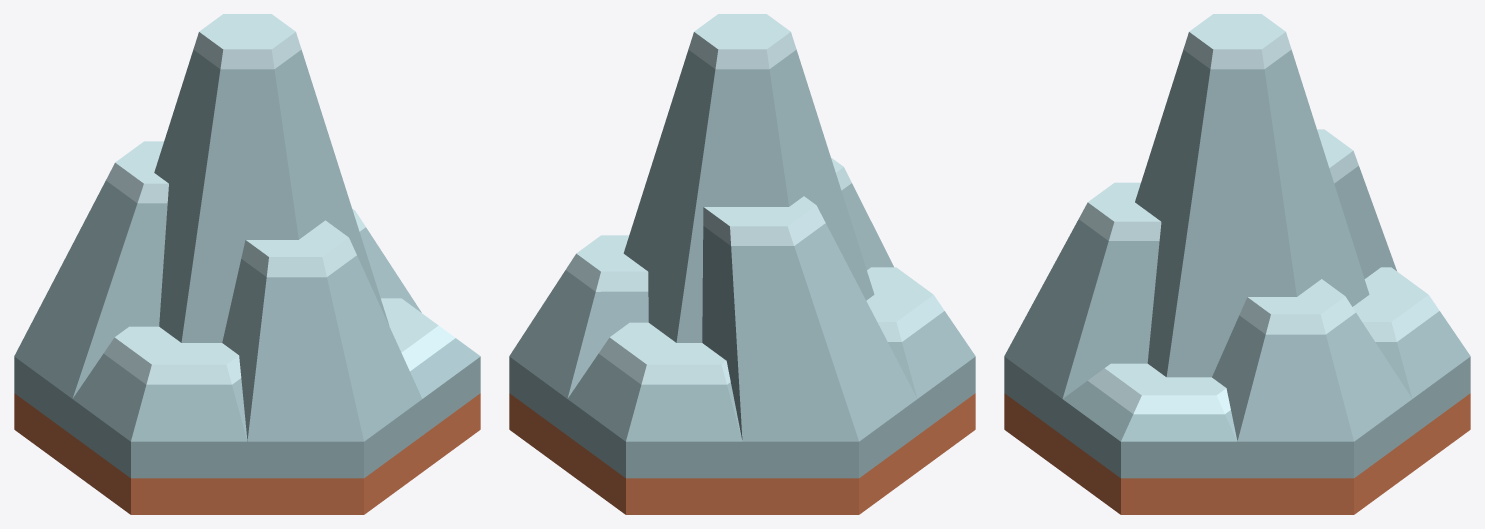
File: Stone Mountain.glb
The picture shows the model from 3 angles, left to right: view 1: azimuth 30°, elevation 25°; view 2: azimuth 150°, elevation 25°; view 3: azimuth 270°, elevation 25°; orthographic projection.
Parts seen in each view (by area): view 1: rockLarge, stone_mountain; view 2: rockLarge, stone_mountain; view 3: rockLarge, stone_mountain.
Boxes of the visible parts, x1,y1,x2,y2 form: rockLarge: (14, 14, 480, 441); stone_mountain: (14, 356, 480, 514); rockLarge: (509, 14, 975, 441); stone_mountain: (509, 356, 975, 514); rockLarge: (1004, 14, 1470, 441); stone_mountain: (1004, 356, 1470, 514).
Bounding box in the file's own units: 1 × 1.09 × 1.15.
